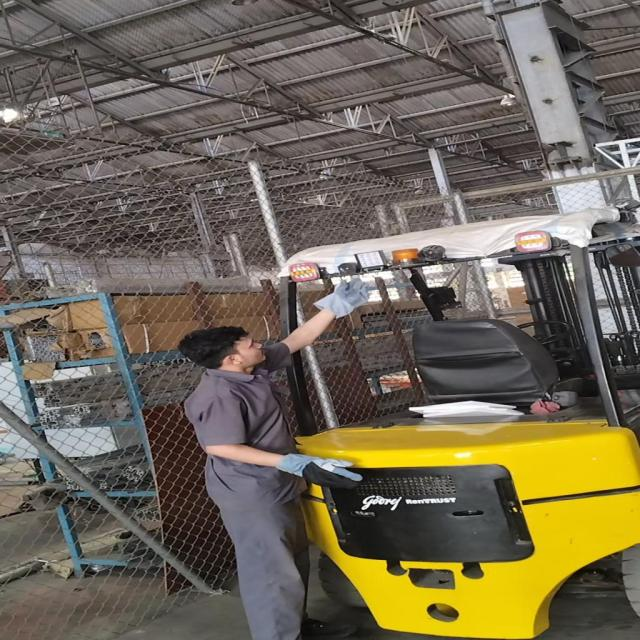Gloves-Detection: (269, 444, 361, 496), (311, 276, 379, 330)
